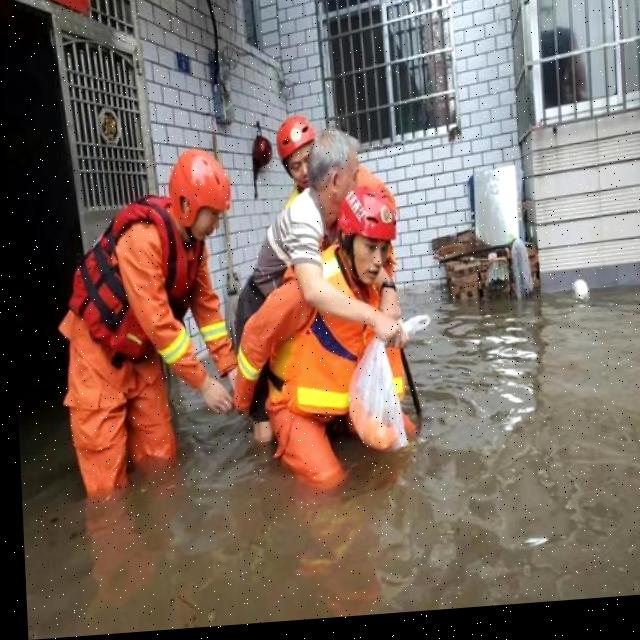civilian: (225, 119, 416, 451)
rescuer: (38, 133, 247, 513), (221, 179, 427, 508), (267, 101, 403, 291)
